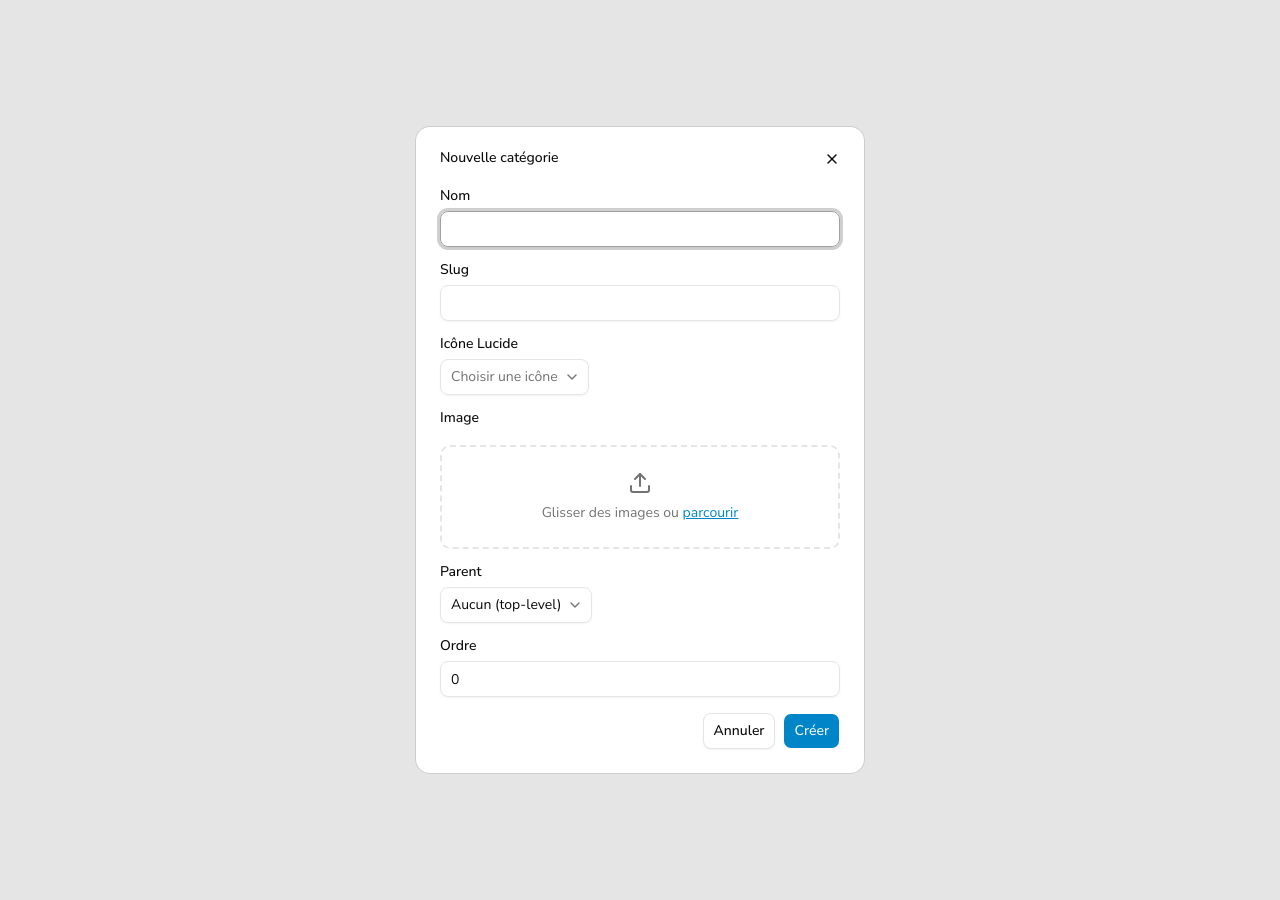
Test: CategoryFormDialog › auto-generates slug from name when creating
Type "Écouteurs Sans Fil" into the field labelled "Nom" at (640, 229), box top-left (440, 211), bottom-right (840, 247)
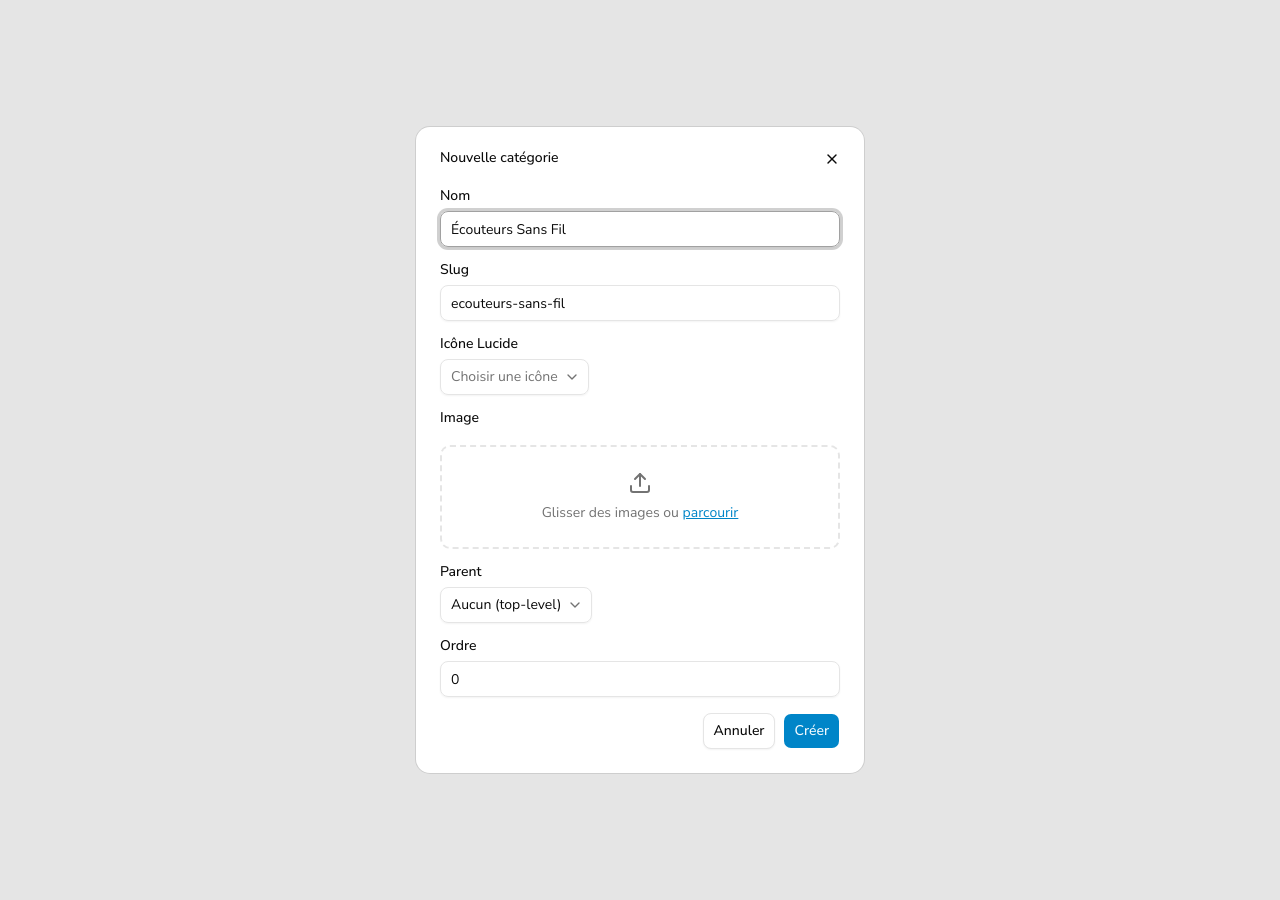
Expected: the field labelled "Slug" holds "ecouteurs-sans-fil", top-left (440, 285), bottom-right (840, 321)
